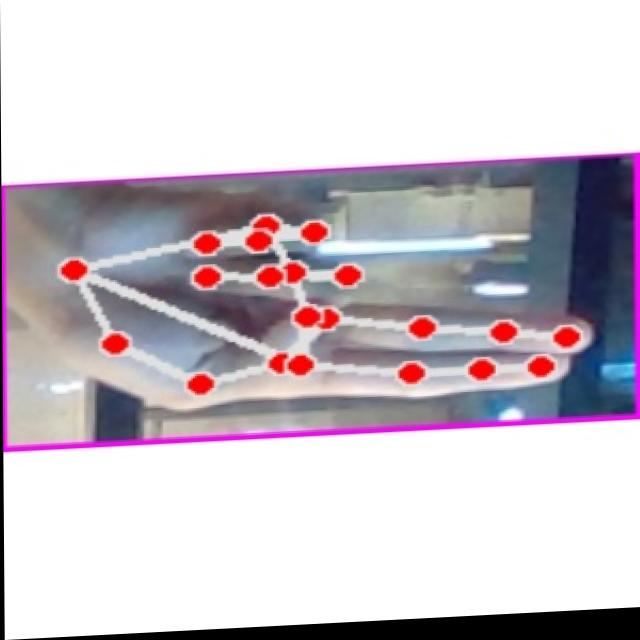H: (20, 178, 607, 435)
